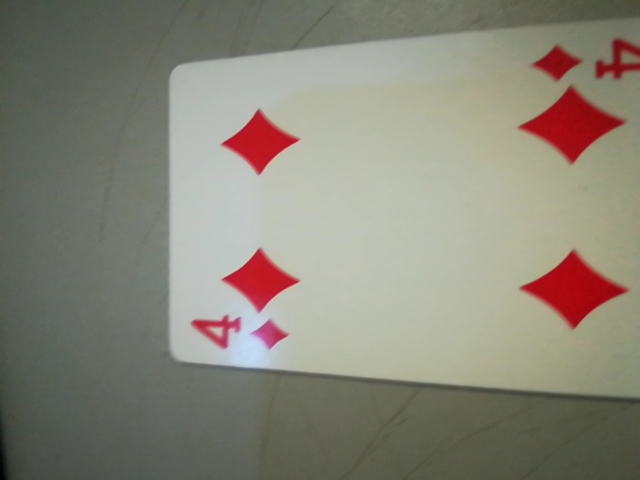fk 4: (172, 291, 305, 365)
